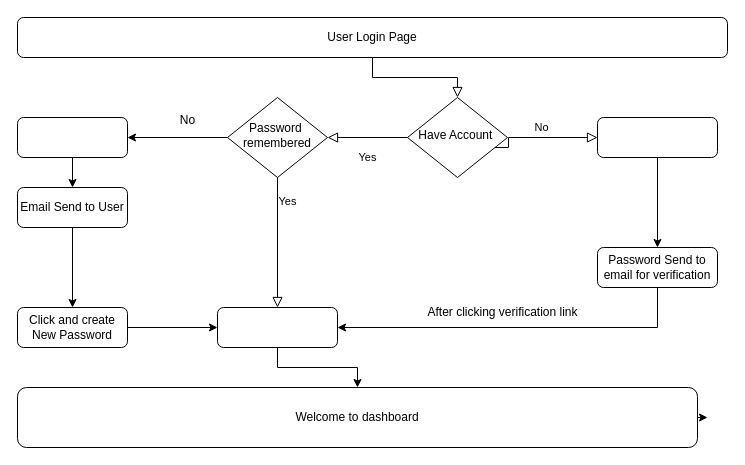
The diagram is 745 pixels wide and 465 high, and some of its shapes have lost their labels. The shapes that lost their labels are listed below. From the top down, each one's centre as x and y in pixels, then its label:
the point at 72,137: Forgot Password
the point at 657,137: Registration form
the point at 277,327: Enter Login Credentials
